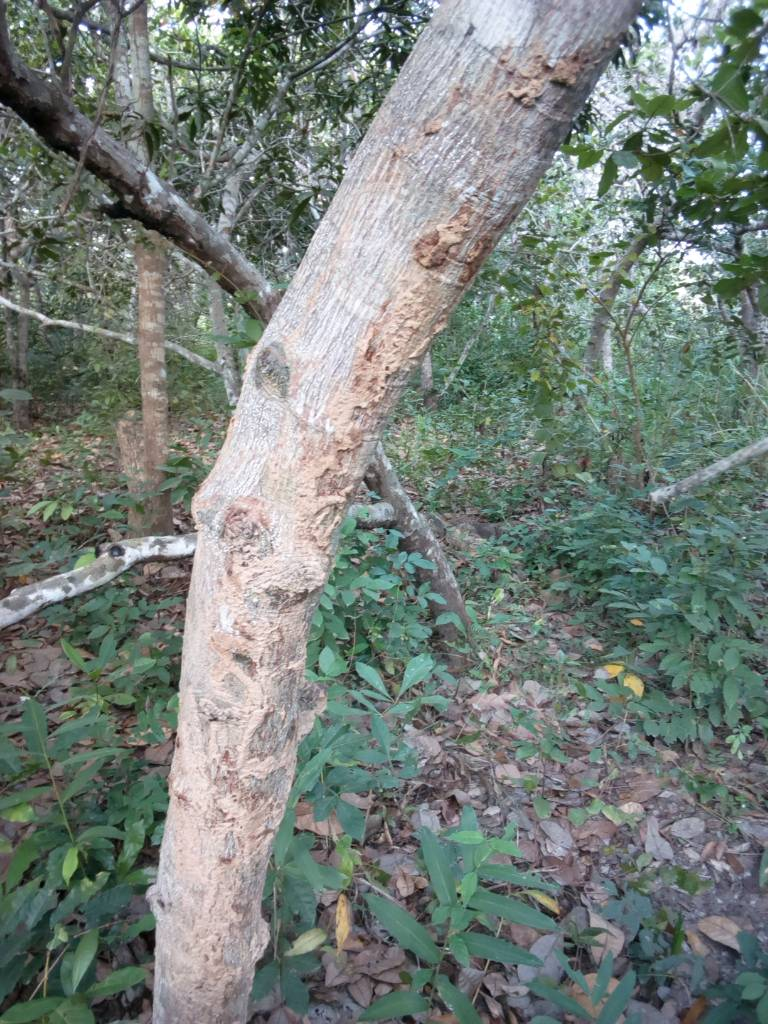Termites: (247, 219, 474, 574), (177, 625, 283, 999)
